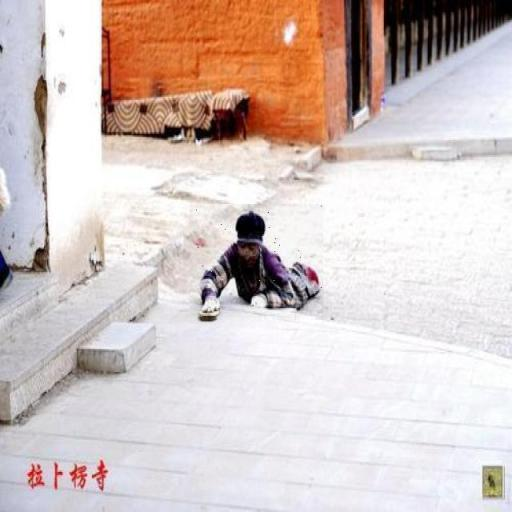Fall: (190, 205, 323, 320)
